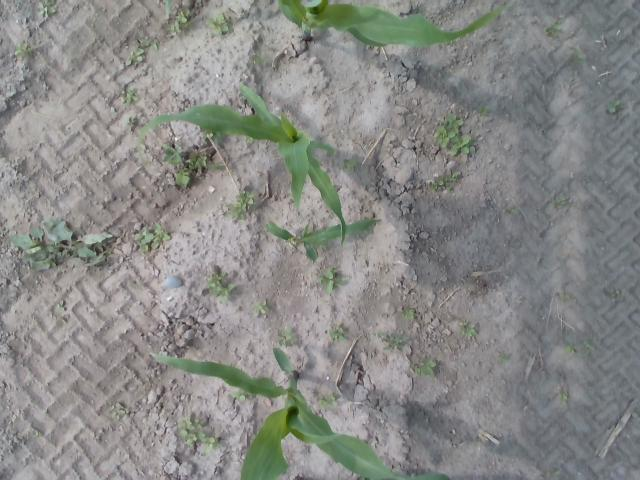Maize: (149, 348, 451, 480), (136, 84, 346, 242), (167, 0, 502, 44), (266, 218, 382, 258)
Weeds: (9, 221, 115, 268), (132, 224, 172, 250), (204, 274, 238, 302), (435, 126, 454, 150), (412, 358, 437, 376), (207, 14, 228, 33), (187, 154, 207, 172), (164, 146, 185, 163), (452, 136, 471, 154), (318, 269, 334, 290), (446, 115, 463, 134), (237, 190, 254, 208), (126, 50, 145, 66), (121, 86, 138, 103), (226, 204, 244, 220), (276, 328, 292, 346), (110, 403, 126, 418), (252, 300, 269, 314), (547, 24, 561, 40), (328, 326, 344, 340), (444, 170, 462, 182), (461, 322, 476, 336), (176, 10, 191, 24), (179, 421, 193, 435), (314, 396, 328, 410), (176, 170, 192, 182), (38, 2, 54, 14), (431, 178, 445, 191), (608, 99, 621, 113), (344, 155, 356, 169), (232, 391, 248, 401), (189, 418, 202, 430), (200, 436, 213, 448), (250, 52, 262, 64), (15, 43, 27, 55), (138, 41, 158, 48), (328, 392, 338, 406), (474, 106, 488, 115), (170, 22, 180, 34), (186, 434, 197, 444), (566, 343, 576, 354), (556, 196, 566, 206), (558, 395, 568, 405), (128, 116, 137, 126), (584, 342, 594, 350), (504, 207, 515, 214), (574, 54, 586, 60), (402, 308, 414, 314), (610, 288, 617, 298), (58, 302, 66, 310), (448, 186, 453, 192)
